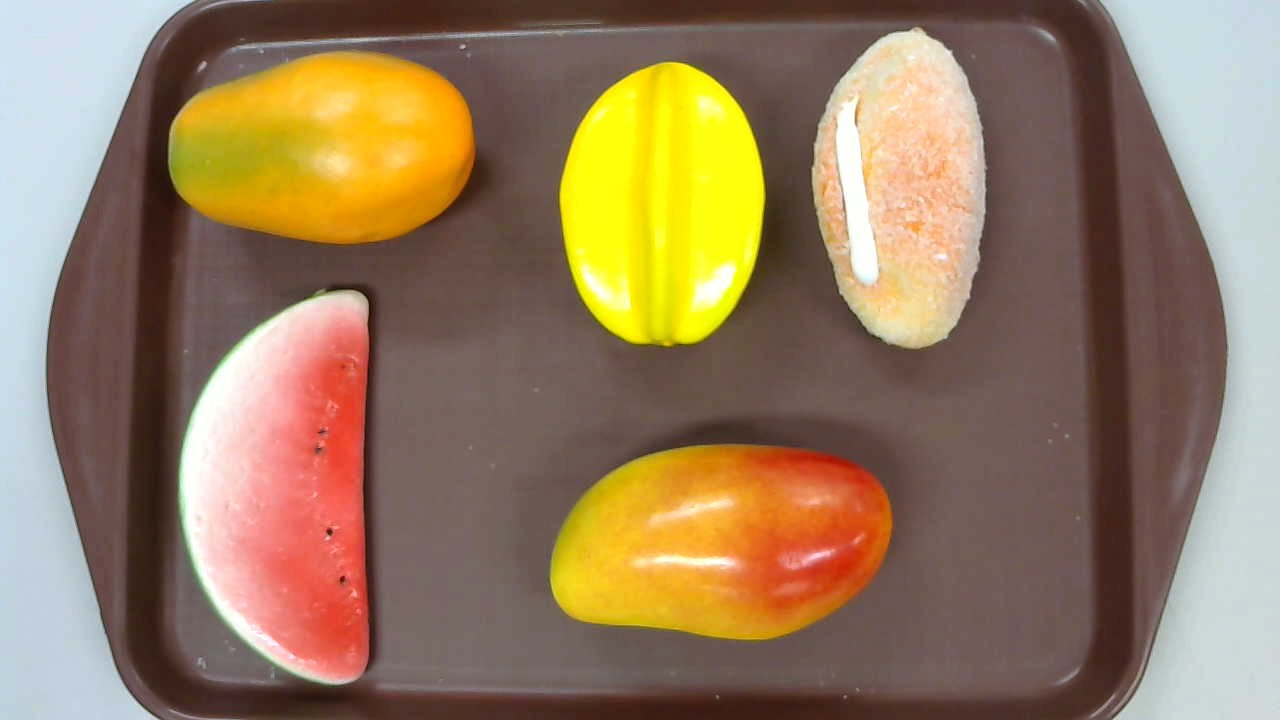coconut: (811, 26, 986, 348)
papya: (168, 49, 476, 244)
red mango: (549, 442, 892, 641)
star fruit: (557, 62, 766, 348)
water melon: (176, 290, 370, 686)
